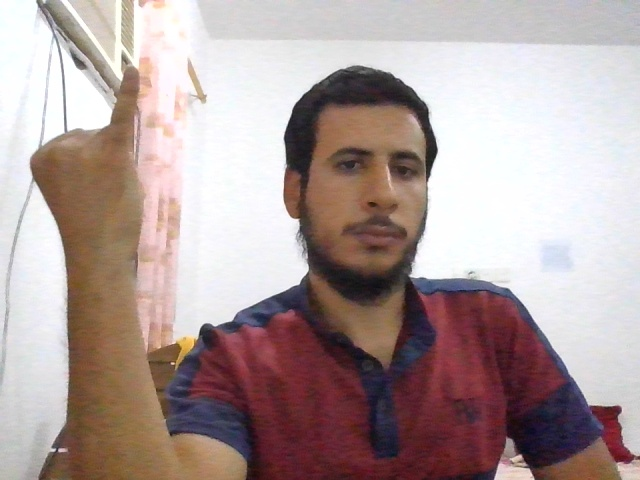One: (29, 66, 143, 251)
